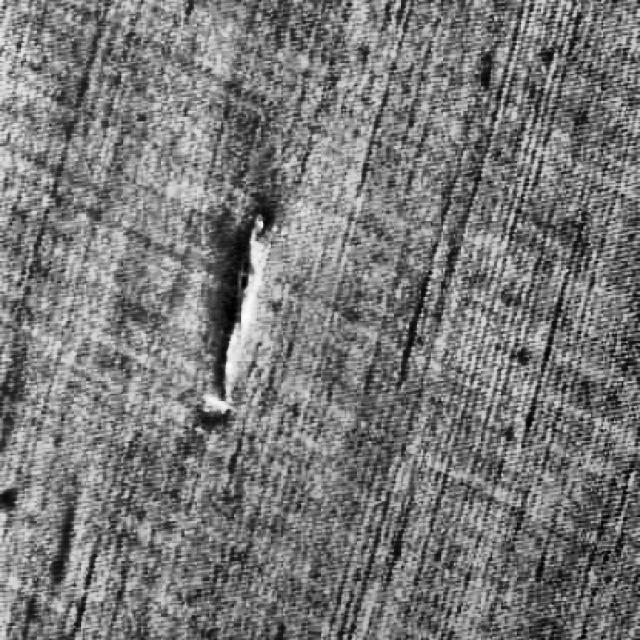hole: (192, 191, 288, 429)
